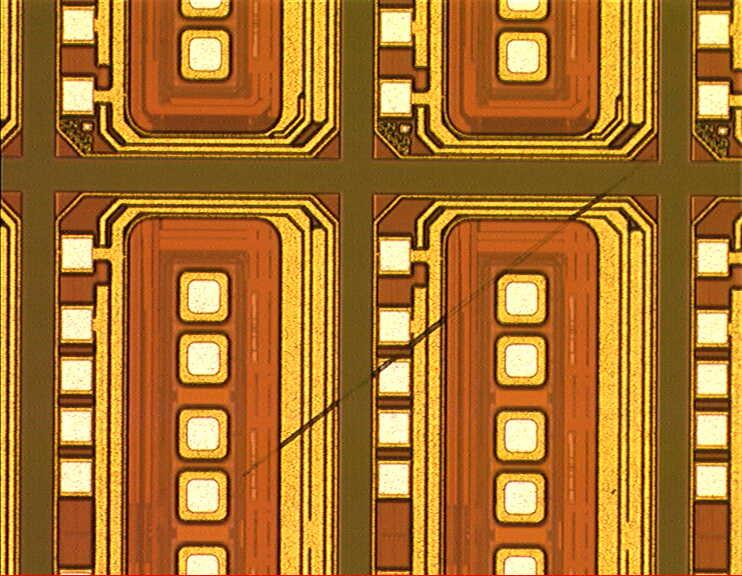SCRATCH: (222, 148, 664, 494)
